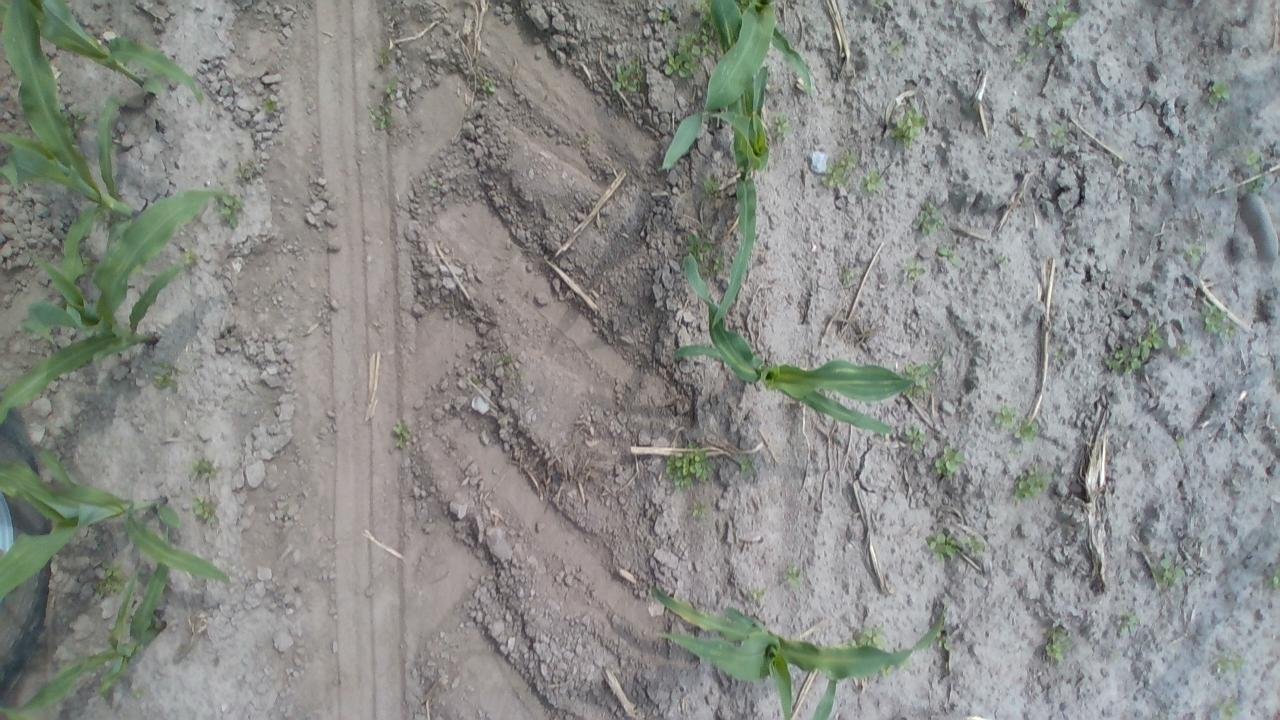Maize: (0, 187, 238, 430), (673, 224, 938, 437), (2, 0, 154, 313), (644, 579, 948, 718), (0, 448, 235, 598), (672, 0, 779, 329), (659, 2, 822, 181), (0, 562, 176, 716), (18, 0, 210, 113)
Weeds: (1104, 320, 1166, 376), (664, 446, 718, 492), (660, 32, 710, 81), (923, 530, 988, 562), (887, 105, 930, 149), (1011, 462, 1056, 503), (1026, 15, 1069, 50), (1040, 621, 1074, 664), (612, 56, 649, 94), (92, 560, 130, 597), (1150, 550, 1186, 588), (822, 152, 858, 190), (931, 444, 968, 480), (911, 198, 946, 236), (904, 359, 938, 398), (215, 190, 247, 231), (1044, 2, 1080, 37), (846, 624, 888, 654), (1201, 303, 1234, 339), (1207, 648, 1246, 676), (1200, 75, 1232, 109), (186, 454, 224, 482), (189, 494, 222, 526), (62, 103, 90, 140), (1112, 604, 1142, 637), (152, 359, 182, 391), (390, 417, 417, 452), (1023, 22, 1055, 51), (860, 165, 888, 198), (497, 350, 524, 384), (366, 104, 396, 134), (990, 401, 1020, 430), (1012, 415, 1042, 444), (769, 111, 796, 142), (904, 424, 930, 455), (899, 256, 927, 284), (1048, 120, 1072, 150), (732, 452, 758, 479), (1182, 241, 1209, 265), (937, 243, 961, 270), (261, 91, 284, 119), (235, 158, 257, 184), (702, 173, 724, 199), (1214, 698, 1242, 718), (936, 628, 956, 655), (373, 44, 394, 69), (377, 78, 402, 99), (686, 498, 712, 518), (180, 246, 202, 268), (783, 563, 804, 586), (990, 251, 1014, 271), (1016, 130, 1037, 152), (884, 36, 906, 57), (656, 7, 676, 30), (479, 71, 498, 95), (1263, 563, 1277, 594), (1244, 149, 1264, 170), (1174, 342, 1194, 362), (748, 585, 768, 605), (1050, 346, 1070, 365), (1246, 175, 1266, 194), (838, 268, 858, 286), (426, 177, 444, 195), (1174, 433, 1186, 451)
